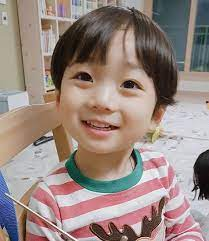person: (51, 5, 178, 158)
